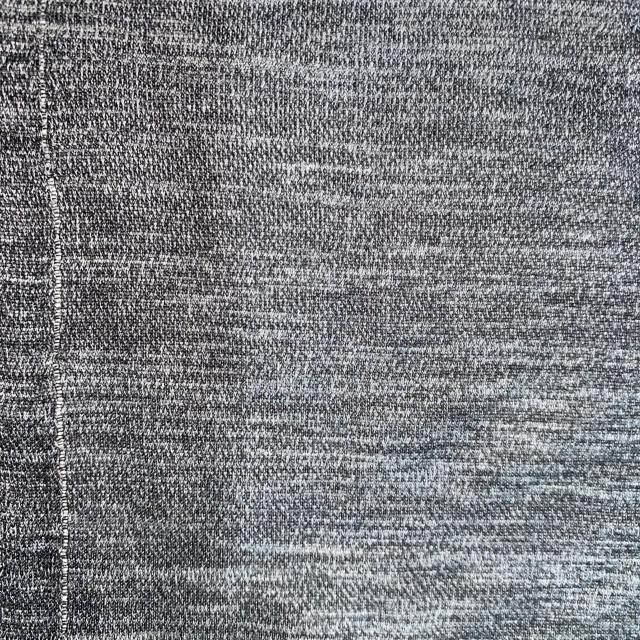Line: (38, 0, 71, 639)
